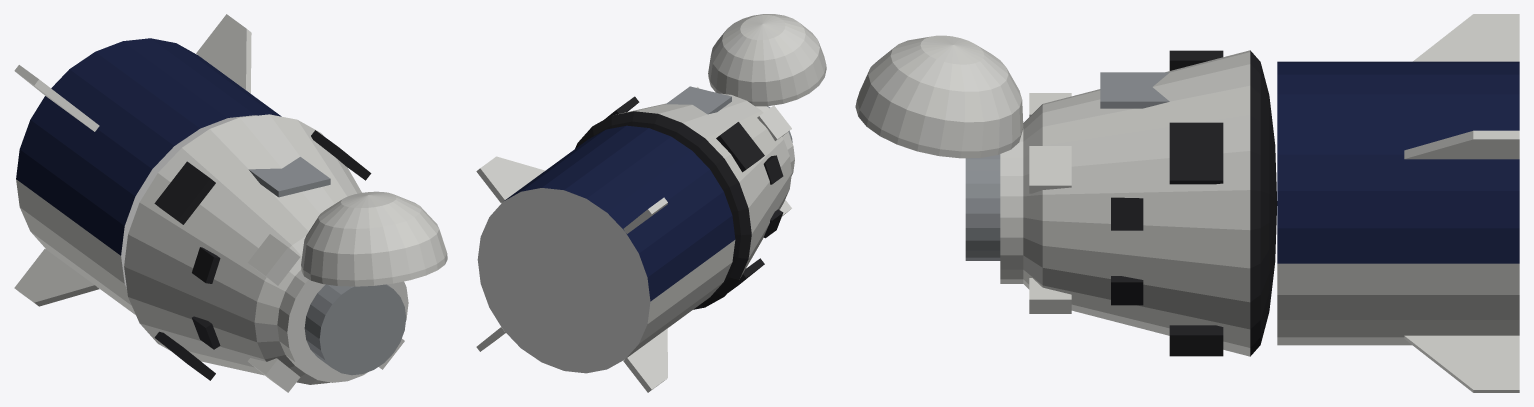
File: dragon.glb
3 views of the same model, side by side, from view 1: azimuth 30°, elevation 25°; view 2: azimuth 150°, elevation 25°; view 3: azimuth 270°, elevation 25° (orthographic). The views are drawn at different scales.
Bounding box in the file's own units: 4 × 4.28 × 8.63.
